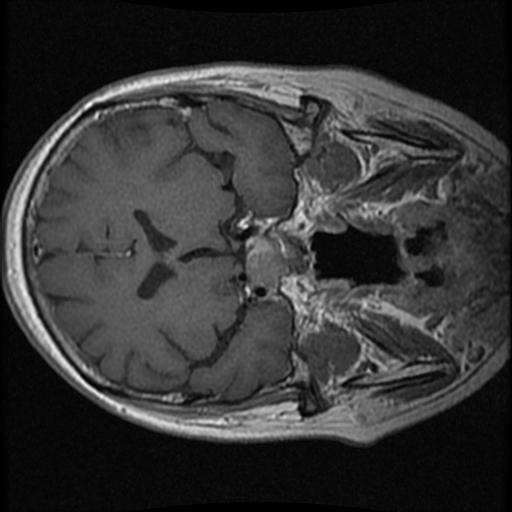pituitary tumour: (242, 225, 309, 295)
